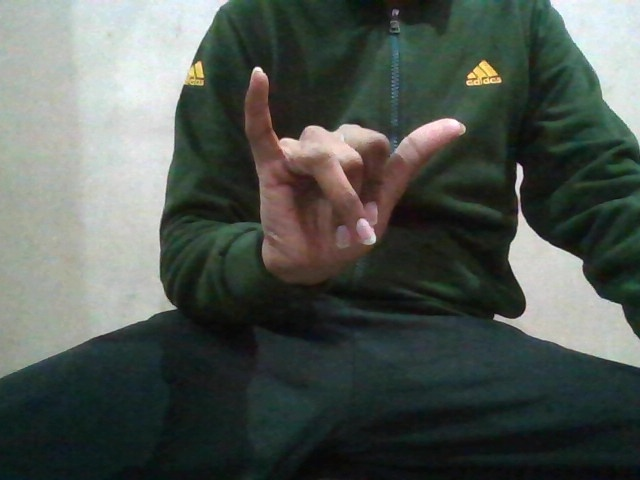Y: (240, 66, 461, 274)
